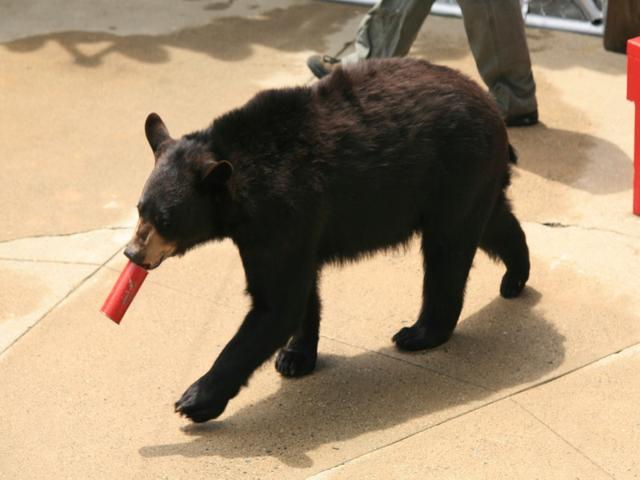Bear: (108, 53, 569, 442)
